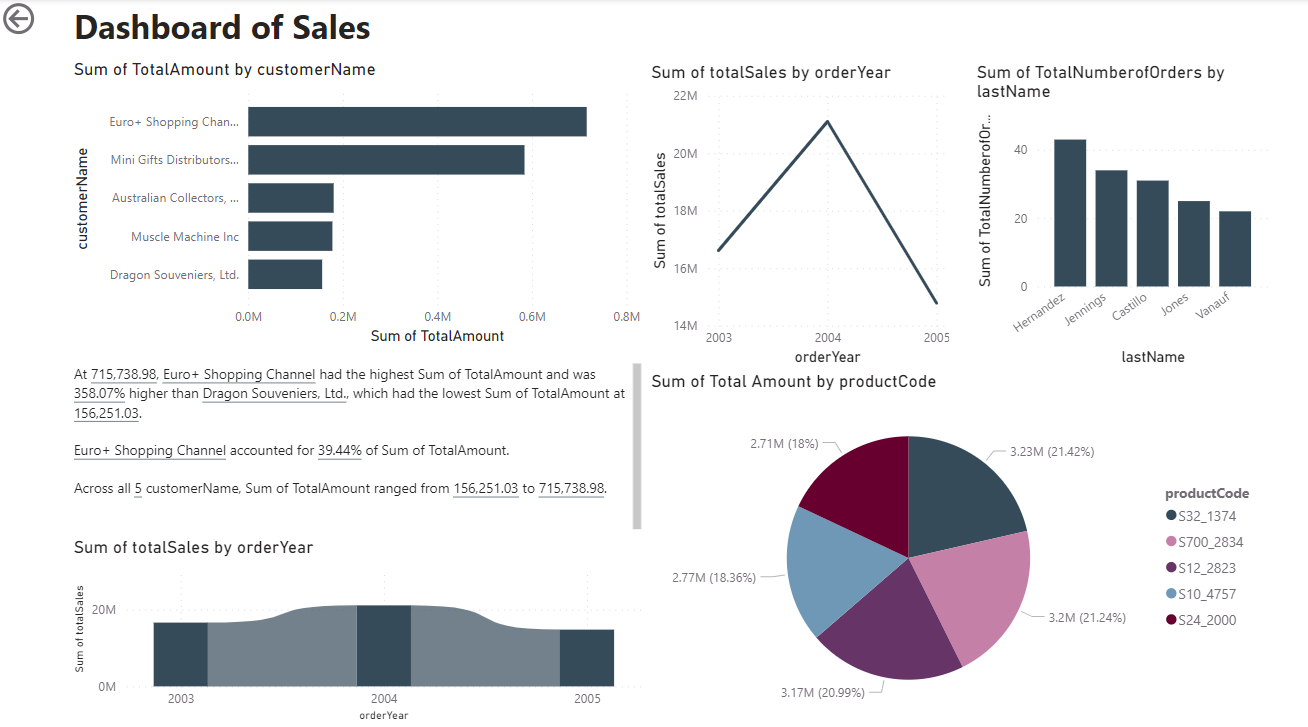

What the dashboard file says about the page in this screenshot:
{"tool":"powerbi","page":{"name":"Page 1","canvas":[1280,720],"ordinal":0},"visuals":[{"type":"clusteredBarChart","fields":{"Y":["Sum(part-00000-tid-3159755763186033355-3564e809-09f7-4119-a066-66dbc8e12b8a-100-1-c0.TotalAmount)"],"Category":["part-00000-tid-3159755763186033355-3564e809-09f7-4119-a066-66dbc8e12b8a-100-1-c0.customerName"]},"box":[68,58.2,559.8,281.5],"z":3},{"type":"textbox","box":[68,349,560,173],"z":4},{"type":"actionButton","box":[0,0,100,40],"z":6},{"type":"lineChart","fields":{"Category":["part-00000-tid-706450477109219292-f569c174-29ab-4afe-b286-36791f5a004d-87-1-c000.orderYear"],"Y":["Sum(part-00000-tid-706450477109219292-f569c174-29ab-4afe-b286-36791f5a004d-87-1-c000.totalSales)"]},"box":[627.8,61.5,299.3,299.3],"z":7},{"type":"clusteredColumnChart","fields":{"Category":["part-00000-tid-1717261801614924088-87b1f4e4-3967-4205-a320-d7efaa16cc2d-96-1-c00.lastName"],"Y":["Sum(part-00000-tid-1717261801614924088-87b1f4e4-3967-4205-a320-d7efaa16cc2d-96-1-c00.TotalNumberofOrders)"]},"box":[943.3,61.5,292.9,299.3],"z":8},{"type":"pieChart","fields":{"Category":["part-00000-tid-755037098583172421-ecf5dcba-3502-4c23-949a-92b07d225867-71-1-c000.productCode"],"Y":["Sum(part-00000-tid-755037098583172421-ecf5dcba-3502-4c23-949a-92b07d225867-71-1-c000.Total Amount)"]},"box":[627.8,360.8,608.4,344.6],"z":9},{"type":"ribbonChart","fields":{"Category":["part-00000-tid-8009755688080510232-a1c8596e-bc12-4b8e-aabf-5f1d883190df-79-1-c00.orderYear"],"Y":["Sum(part-00000-tid-8009755688080510232-a1c8596e-bc12-4b8e-aabf-5f1d883190df-79-1-c00.totalSales)"]},"box":[68,522,560,184],"z":10},{"type":"textbox","box":[68,0,394.8,58.2],"z":11}]}

Visuals, with their boxes in screenshot pixels (x1, y1, x2, y2), scaled from the page's 1280x720 canvas onto the 1308x727 screenshot:
clusteredBarChart - Sum(part-00000-tid-3159755763186033355-3564e809-09f7-4119-a066-66dbc8e12b8a-100-1-c0.TotalAmount) x part-00000-tid-3159755763186033355-3564e809-09f7-4119-a066-66dbc8e12b8a-100-1-c0.customerName: <bbox>69, 59, 642, 343</bbox>
textbox: <bbox>69, 352, 642, 527</bbox>
actionButton: <bbox>0, 0, 102, 40</bbox>
lineChart - part-00000-tid-706450477109219292-f569c174-29ab-4afe-b286-36791f5a004d-87-1-c000.orderYear x Sum(part-00000-tid-706450477109219292-f569c174-29ab-4afe-b286-36791f5a004d-87-1-c000.totalSales): <bbox>642, 62, 947, 364</bbox>
clusteredColumnChart - part-00000-tid-1717261801614924088-87b1f4e4-3967-4205-a320-d7efaa16cc2d-96-1-c00.lastName x Sum(part-00000-tid-1717261801614924088-87b1f4e4-3967-4205-a320-d7efaa16cc2d-96-1-c00.TotalNumberofOrders): <bbox>964, 62, 1263, 364</bbox>
pieChart - part-00000-tid-755037098583172421-ecf5dcba-3502-4c23-949a-92b07d225867-71-1-c000.productCode x Sum(part-00000-tid-755037098583172421-ecf5dcba-3502-4c23-949a-92b07d225867-71-1-c000.Total Amount): <bbox>642, 364, 1263, 712</bbox>
ribbonChart - part-00000-tid-8009755688080510232-a1c8596e-bc12-4b8e-aabf-5f1d883190df-79-1-c00.orderYear x Sum(part-00000-tid-8009755688080510232-a1c8596e-bc12-4b8e-aabf-5f1d883190df-79-1-c00.totalSales): <bbox>69, 527, 642, 713</bbox>
textbox: <bbox>69, 0, 473, 59</bbox>
